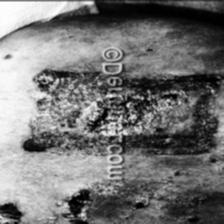Non-Cancerous Skin Condition: (32, 70, 216, 154), (43, 183, 223, 224), (0, 197, 24, 224)
